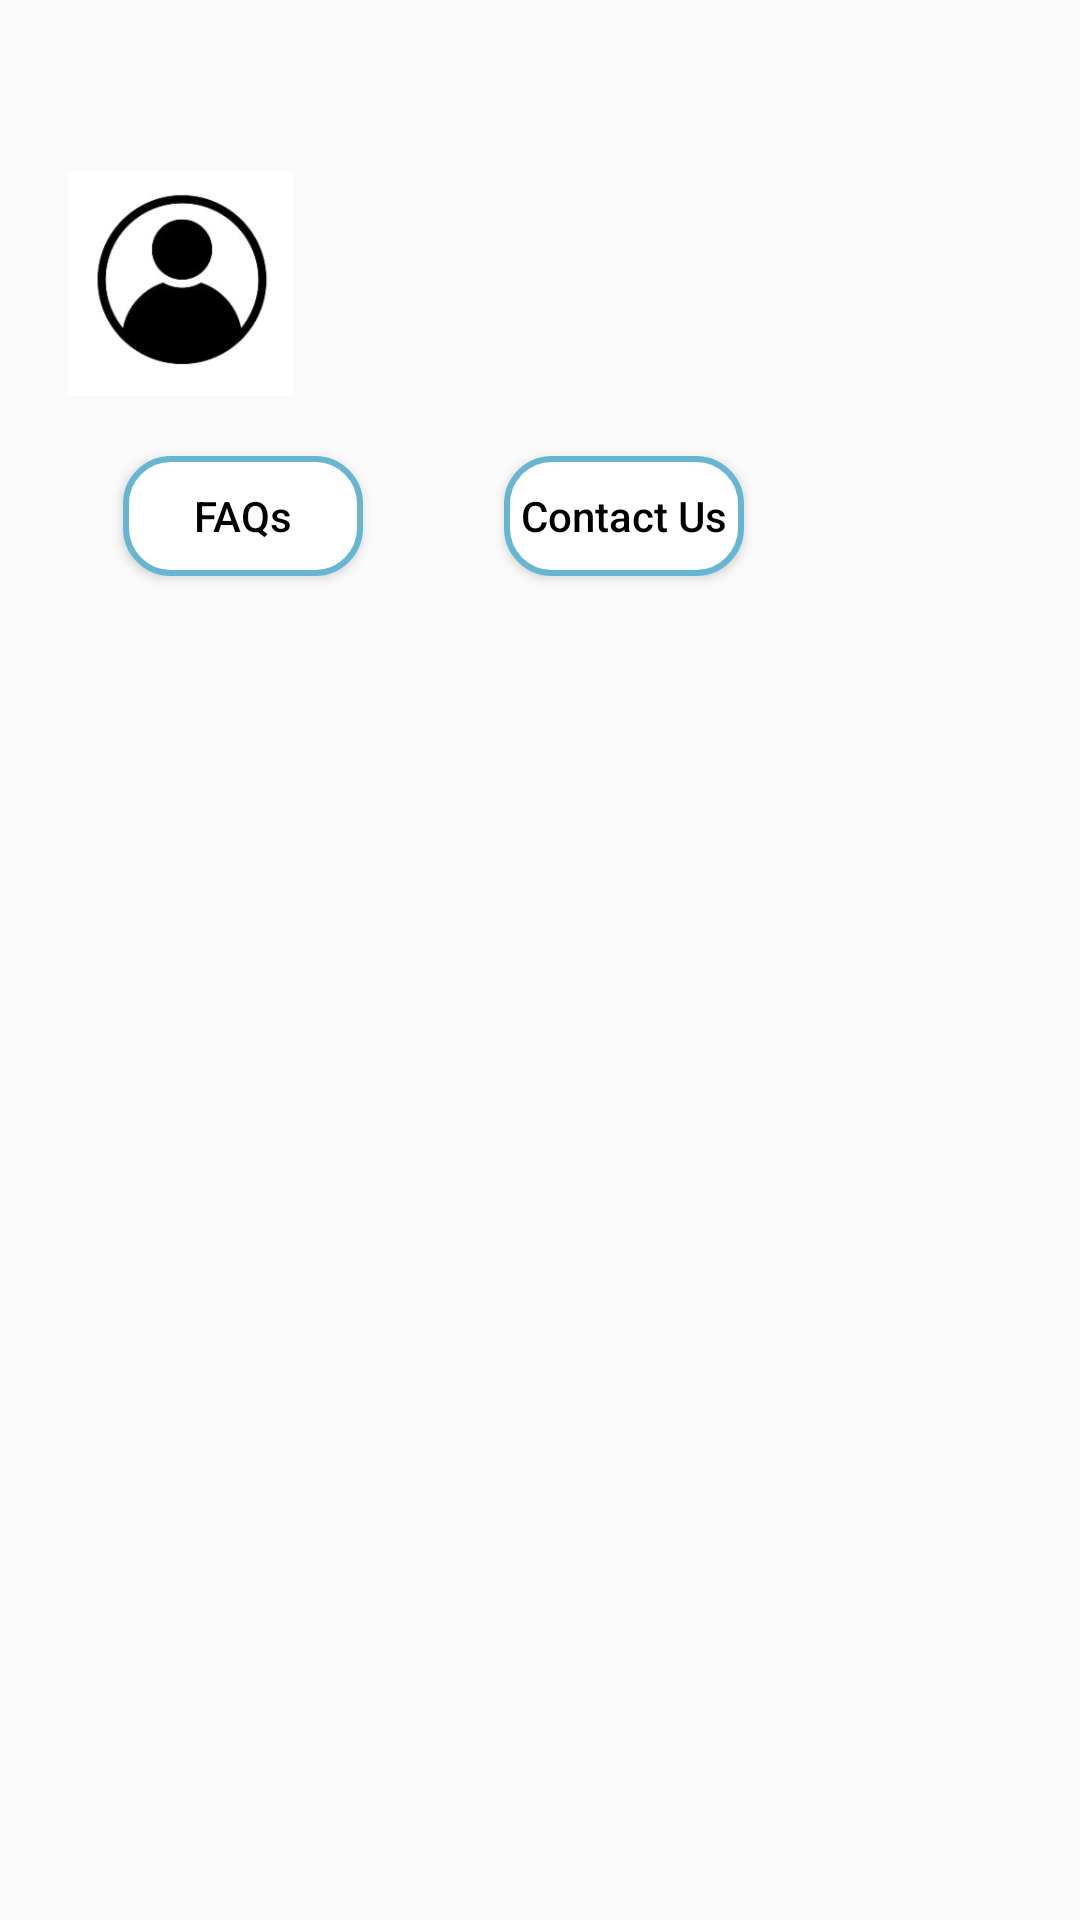

Locate icon controls on the screen. Image size 1080w x 1920h, boxes as bbox=(x1, y1, x2, y2).
profile: bbox=(97, 195, 267, 364)
